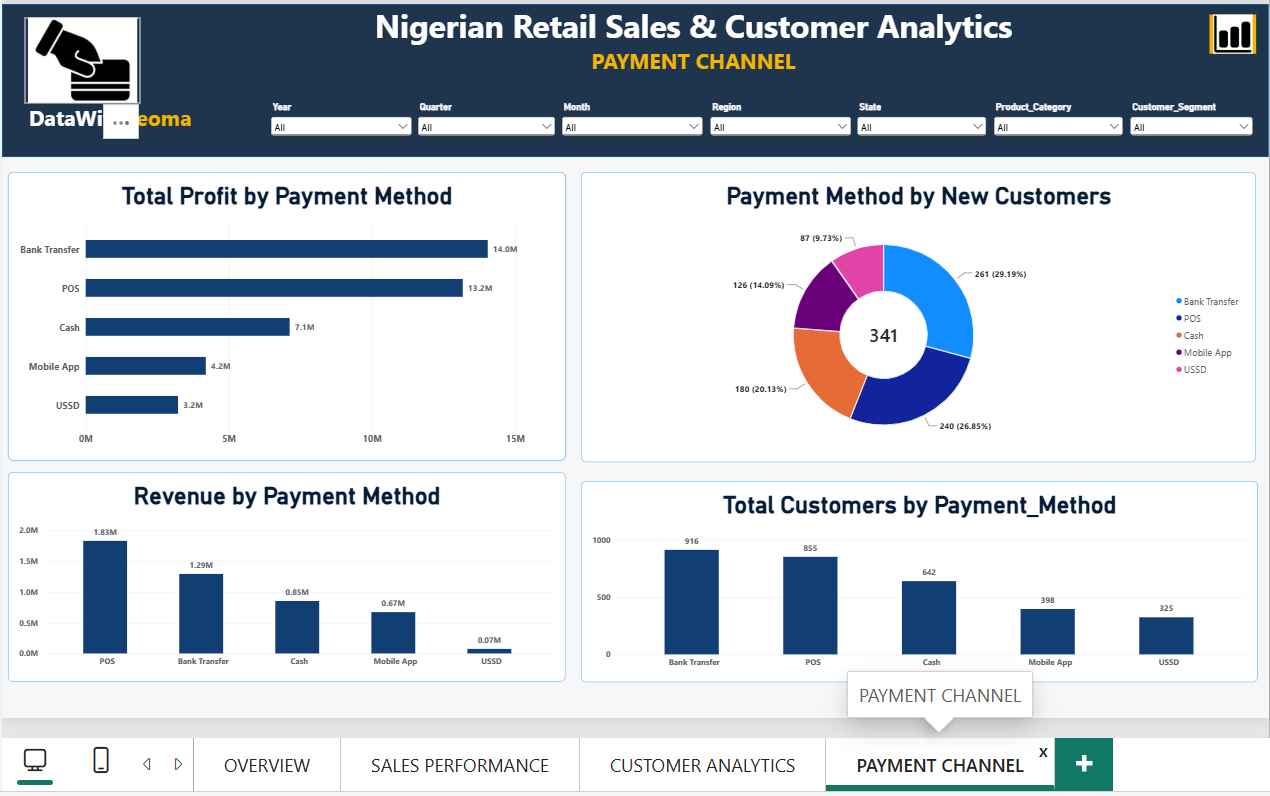

This screenshot's page, from the dashboard's own definition file:
{"tool":"powerbi","page":{"name":"PAYMENT CHANNEL","canvas":[1920,1080],"ordinal":3},"visuals":[{"type":"shape","box":[0,0,1919.5,231.7],"z":0},{"type":"slicer","fields":{"Values":["Date.Year"]},"box":[402.6,148.7,223.1,59],"z":1000},{"type":"slicer","fields":{"Values":["Date.Quarter"]},"box":[625.6,148.7,217.9,59],"z":2000},{"type":"slicer","fields":{"Values":["Date.Month"]},"box":[843.6,148.7,223.1,59],"z":3000},{"type":"slicer","fields":{"Values":["States.Region"]},"box":[1066.7,148.7,223.1,59],"z":4000},{"type":"slicer","fields":{"Values":["States.State"]},"box":[1289.7,148.7,205.1,59],"z":5000},{"type":"slicer","fields":{"Values":["Products.Product_Category"]},"box":[1497.4,148.7,205.1,59],"z":6000},{"type":"slicer","fields":{"Values":["Customers.Customer_Segment"]},"box":[1702.6,148.7,194.9,59],"z":7000},{"type":"barChart","title":"Total Profit by Payment Method","fields":{"Category":["Transactions.Payment_Method"],"Y":["_Measures.Total Profit"]},"box":[9.8,253.7,843.9,436.6],"z":10000},{"type":"columnChart","title":"Revenue by Payment Method","fields":{"Category":["Transactions.Payment_Method"],"Y":["_Measures.Total Revenue"]},"box":[9.8,709.8,843.9,317.1],"z":11000},{"type":"donutChart","title":"Payment Method by New Customers","fields":{"Category":["Transactions.Payment_Method"],"Y":["_Measures.New Customers"]},"box":[875.6,253.7,1022,439],"z":12000},{"type":"textbox","box":[174.9,0,1744.4,131.7],"z":17000},{"type":"textbox","box":[41.5,148.8,268.3,82.9],"z":18000},{"type":"image","box":[1828.4,15.9,70.8,59.6],"z":19000},{"type":"image","box":[34.1,19.5,175.6,129.3],"z":20000},{"type":"columnChart","fields":{"Category":["Transactions.Payment_Method"],"Y":["_Measures.Total Customers"]},"box":[875.6,722,1024.4,304.9],"z":23001}]}

Visuals, with their boxes on the page's 1920x1080 design canvas (x1, y1, x2, y2). These are canvas units, not pixel positions in the 1270x796 screenshot, which may show the page scaled, cropped or inside an application window:
shape: (0, 0, 1920, 232)
slicer - Date.Year: (403, 149, 626, 208)
slicer - Date.Quarter: (626, 149, 844, 208)
slicer - Date.Month: (844, 149, 1067, 208)
slicer - States.Region: (1067, 149, 1290, 208)
slicer - States.State: (1290, 149, 1495, 208)
slicer - Products.Product_Category: (1497, 149, 1702, 208)
slicer - Customers.Customer_Segment: (1703, 149, 1898, 208)
"Total Profit by Payment Method" barChart: (10, 254, 854, 690)
"Revenue by Payment Method" columnChart: (10, 710, 854, 1027)
"Payment Method by New Customers" donutChart: (876, 254, 1898, 693)
textbox: (175, 0, 1919, 132)
textbox: (42, 149, 310, 232)
image: (1828, 16, 1899, 76)
image: (34, 20, 210, 149)
columnChart - Transactions.Payment_Method x _Measures.Total Customers: (876, 722, 1900, 1027)
